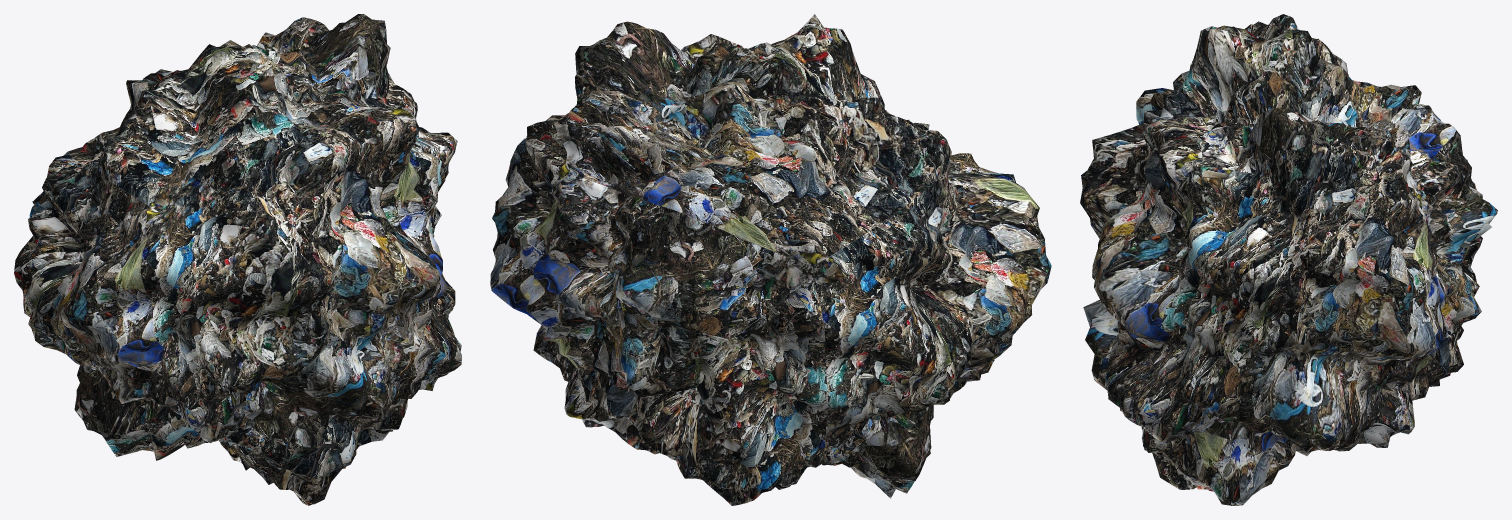
The model's file is asteroid_large_1.fbx.
3 views of the same model, side by side, from view 1: azimuth 30°, elevation 25°; view 2: azimuth 150°, elevation 25°; view 3: azimuth 270°, elevation 25° (orthographic). The views are drawn at different scales.
Visible parts, largest first — view 1: Cube; view 2: Cube; view 3: Cube.
Part boxes in pixels (x1=…): Cube: x1=14, y1=14, x2=461, y2=505; Cube: x1=490, y1=14, x2=1051, y2=505; Cube: x1=1080, y1=14, x2=1497, y2=505.
Bounding box in the file's own units: 8.98 × 8.89 × 7.54.
1 material, 1 textured.
